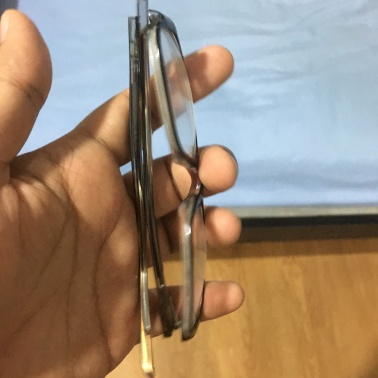glasses: (104, 13, 232, 347)
